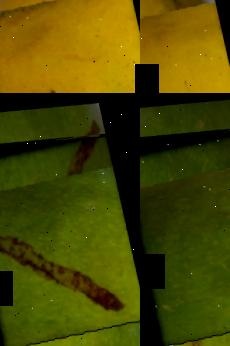PartiallyRipe: (140, 0, 230, 93)
Ripe: (0, 0, 140, 93)
Unripe: (0, 125, 140, 346), (140, 115, 230, 346)
